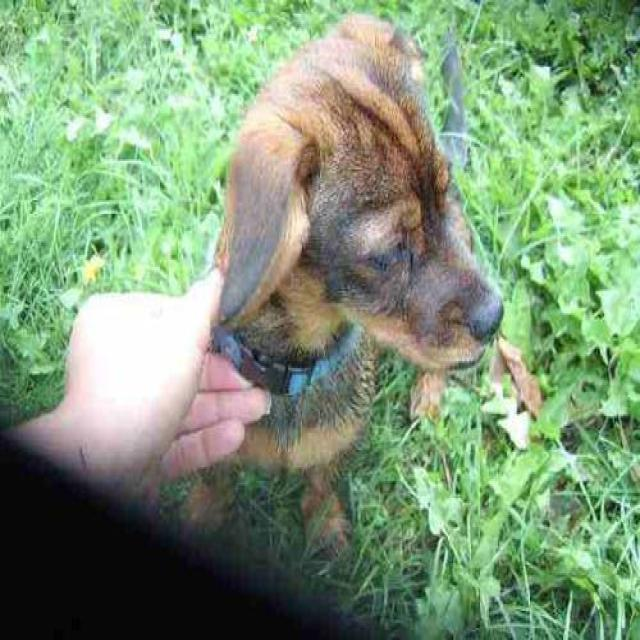dog: (164, 10, 506, 565)
